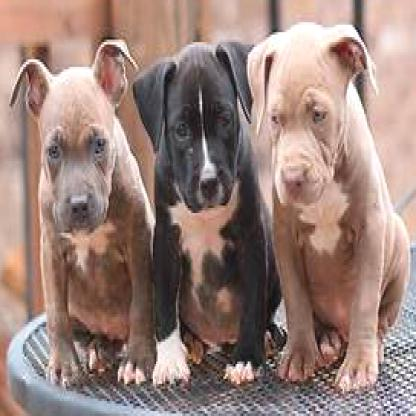dog: (247, 17, 408, 384), (10, 37, 152, 386), (133, 37, 274, 381)
